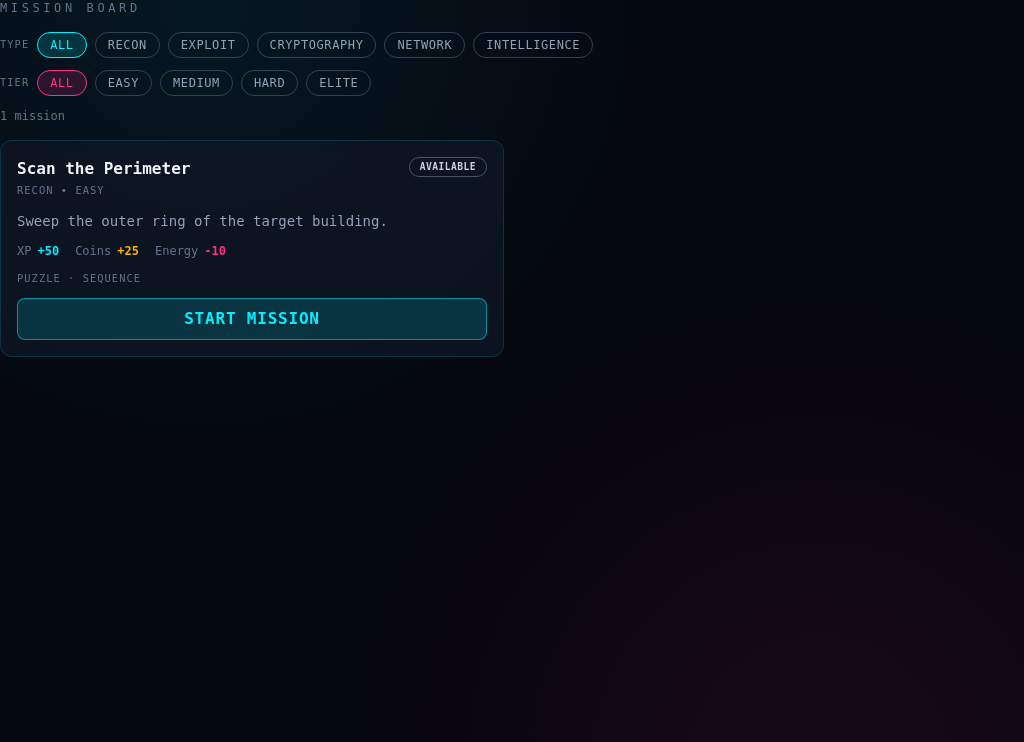
MissionBoard puzzle loop › shows a countdown derived from the server expiry
This screenshot has width=1024, height=742.
Expected: the heading "Scan the Perimeter" is shown, [17,157,190,181]
Click the button "Start mission": point(252, 319) [17,298,487,340]
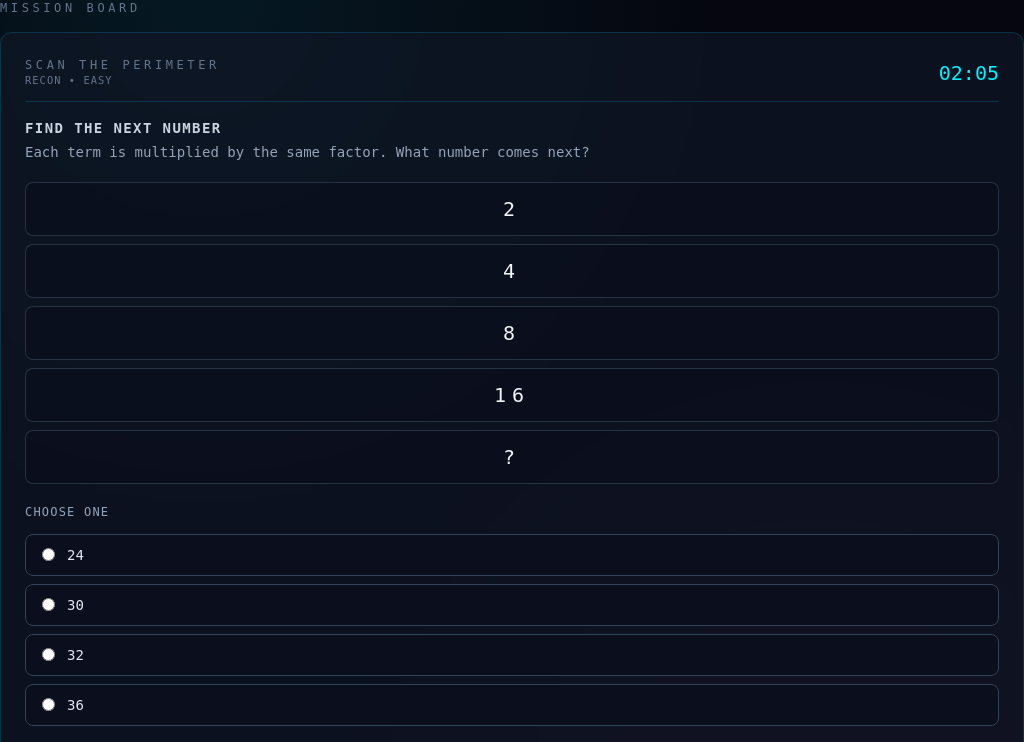
Expected: the text "02:05" is shown, [939,59,999,87]
